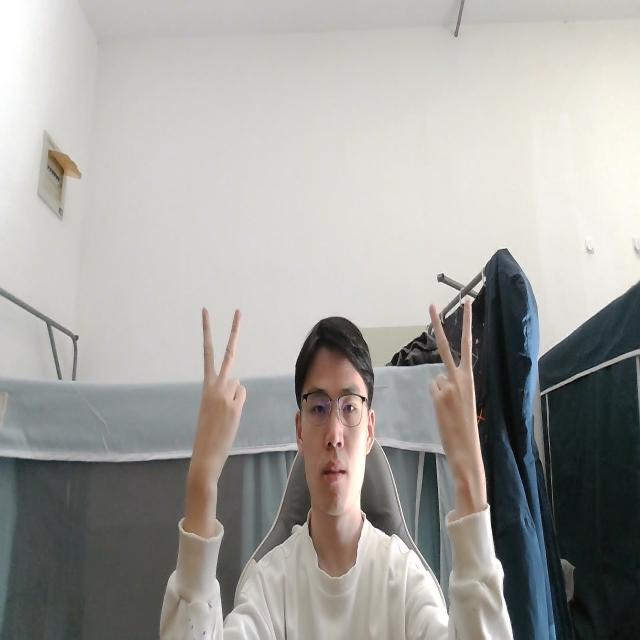yes: (426, 288, 485, 496), (188, 297, 248, 483)
